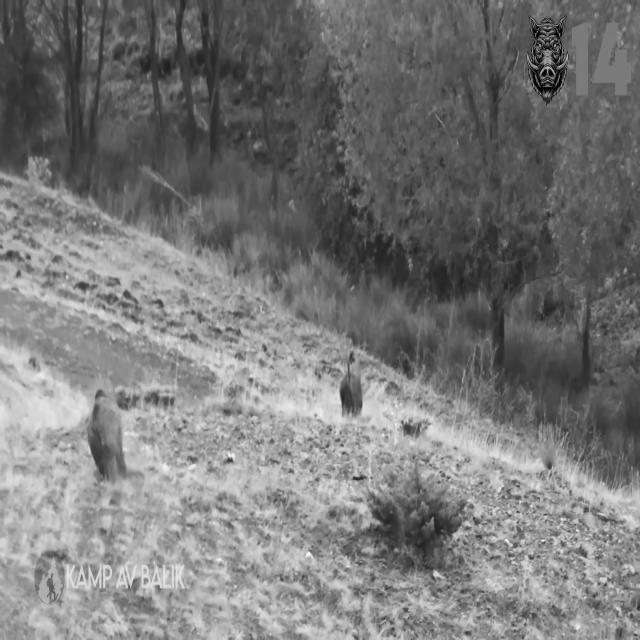boar: (87, 389, 126, 481), (340, 351, 362, 414)
